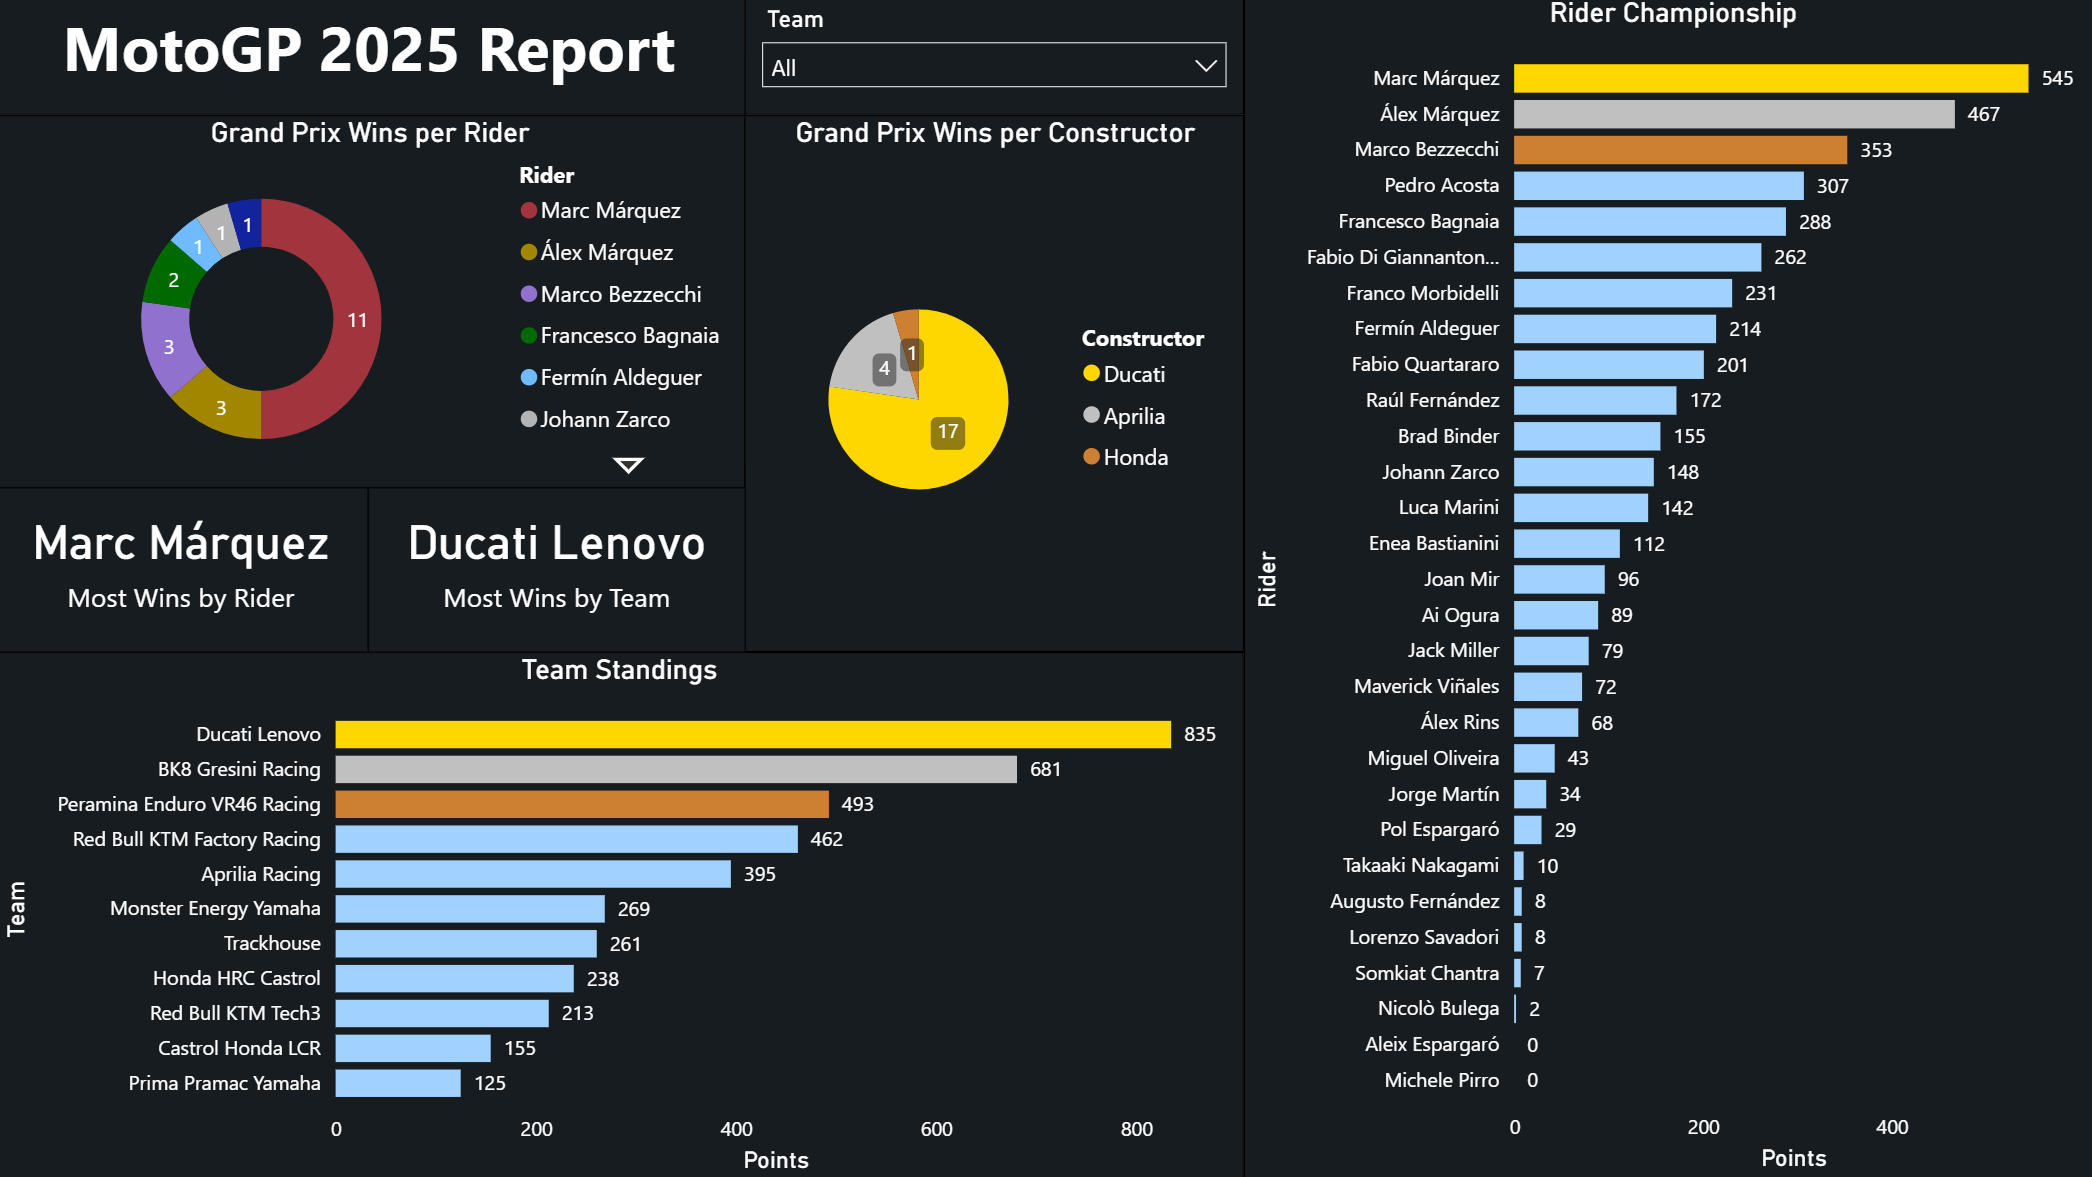

Layout of this report page (visuals, bound fields, positions):
{"tool":"powerbi","page":{"name":"Page 1","canvas":[1280,720],"ordinal":0},"visuals":[{"type":"textbox","box":[0,0,457.3,72.8],"z":0},{"type":"clusteredBarChart","title":"Rider Championship","fields":{"Category":["Rider Championship.Rider"],"Y":["Sum(Rider Championship.Points per Race)"]},"box":[759.5,0,520,719.4],"z":1000},{"type":"clusteredBarChart","title":"Team Standings","fields":{"Category":["Team Championship.Team"],"Y":["Sum(Team Championship.Points per Race)"]},"box":[0,398.5,759.2,321.9],"z":2000},{"type":"pieChart","title":"Grand Prix Wins per Constructor","fields":{"Y":["CountNonNull(Info.Grand Prix)"],"Category":["Info.Winning constructor"]},"box":[456.2,72.9,303.2,326],"z":3000},{"type":"card","fields":{"Values":["Info.Most Wins by Team"]},"box":[228.1,283,229.3,115.8],"z":4000},{"type":"card","fields":{"Values":["Info.Most Wins by Rider"]},"box":[0,283,228.1,115.8],"z":5000},{"type":"donutChart","title":"Grand Prix Wins per Rider","fields":{"Category":["Info.Winning rider"],"Y":["CountNonNull(Info.Grand Prix)"]},"box":[0,72.5,456.8,226.8],"z":6000},{"type":"slicer","fields":{"Values":["Rider.Team"]},"box":[456.2,0,303.2,72.9],"z":7000}]}

Visuals, with their boxes in screenshot pixels (x1, y1, x2, y2), scaled from the page's 1280x720 canvas onto the 2092x1177 screenshot:
textbox: Rect(0, 0, 747, 119)
"Rider Championship" clusteredBarChart: Rect(1241, 0, 2091, 1176)
"Team Standings" clusteredBarChart: Rect(0, 651, 1241, 1176)
"Grand Prix Wins per Constructor" pieChart: Rect(746, 119, 1241, 652)
card - Info.Most Wins by Team: Rect(373, 463, 748, 652)
card - Info.Most Wins by Rider: Rect(0, 463, 373, 652)
"Grand Prix Wins per Rider" donutChart: Rect(0, 119, 747, 489)
slicer - Rider.Team: Rect(746, 0, 1241, 119)
